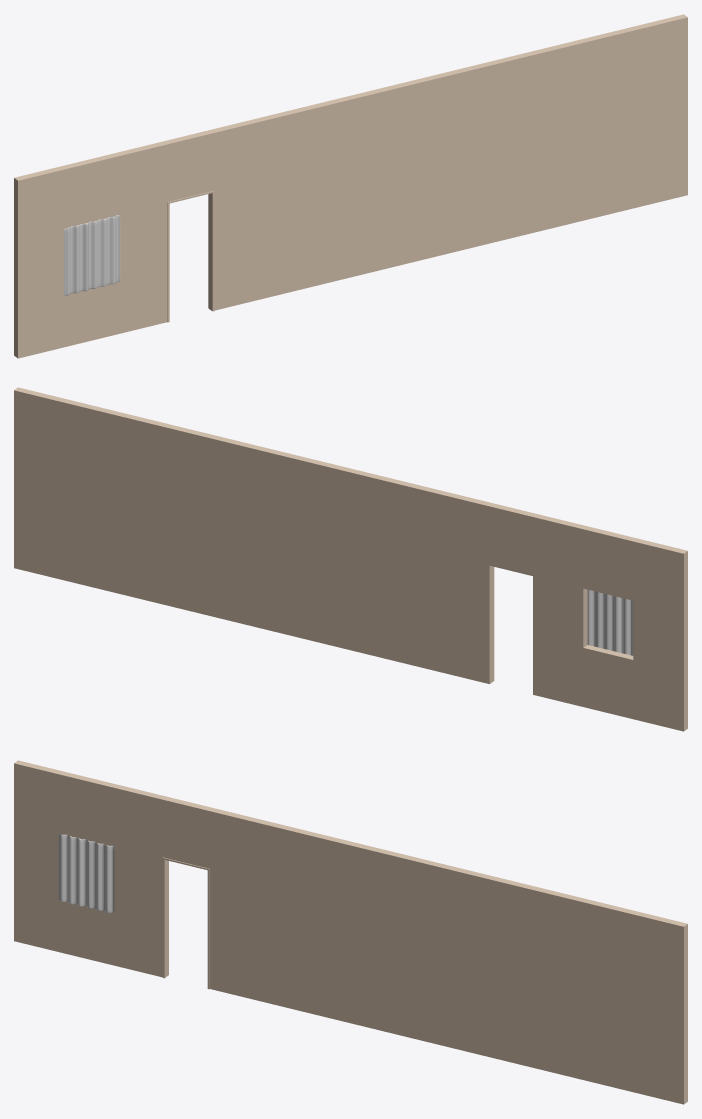
The model's file is wallwithcurtain.glb.
The picture shows the model from 3 angles, top to bottom: view 1: azimuth 30°, elevation 25°; view 2: azimuth 150°, elevation 25°; view 3: azimuth 330°, elevation 25°; orthographic projection.
Visible parts, largest first — view 1: window + door; view 2: window + door; view 3: window + door.
Boxes of the visible parts, x1,y1,x2,y2 form: window + door: [14, 14, 687, 358]; window + door: [14, 387, 687, 731]; window + door: [14, 760, 687, 1104].
Size of the model in its own units: 166 by 42.1 by 2.55.
